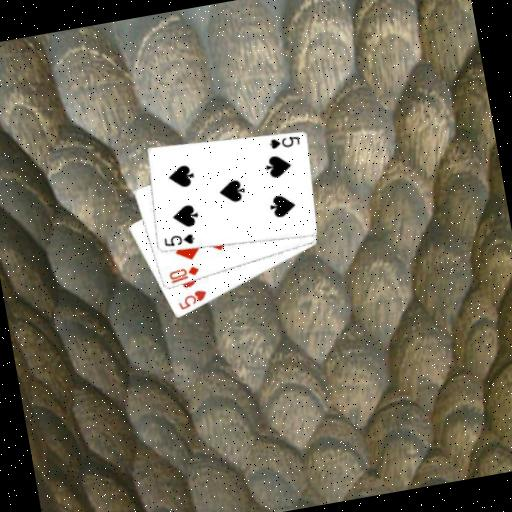10D: (164, 262, 201, 286)
5H: (173, 286, 210, 312)
5S: (159, 229, 196, 250), (265, 131, 301, 152)
